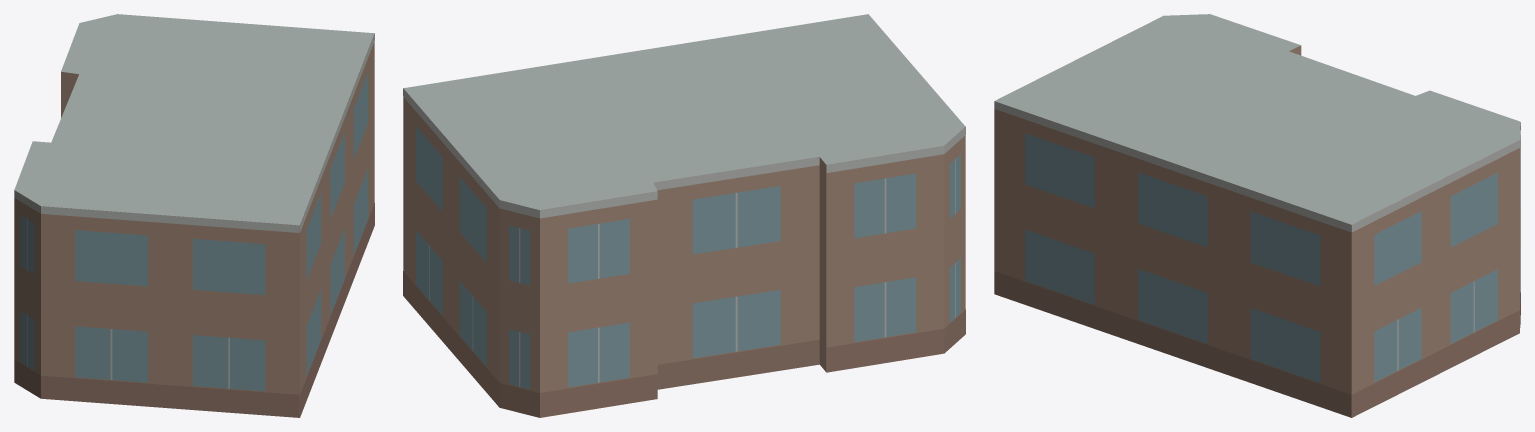
The model's file is survey-upis-32670558.glb.
3 views of the same model, side by side, from view 1: azimuth 30°, elevation 25°; view 2: azimuth 150°, elevation 25°; view 3: azimuth 270°, elevation 25° (orthographic). The views are drawn at different scales.
Parts seen in each view (by area): view 1: survey-upis-32670558.tmp; view 2: survey-upis-32670558.tmp; view 3: survey-upis-32670558.tmp.
Boxes of the visible parts, x1=… form: survey-upis-32670558.tmp: x1=14, y1=14, x2=374, y2=417; survey-upis-32670558.tmp: x1=403, y1=14, x2=965, y2=417; survey-upis-32670558.tmp: x1=994, y1=14, x2=1520, y2=417.
Size of the model in its own units: 14.3 by 6.1 by 15.09.
